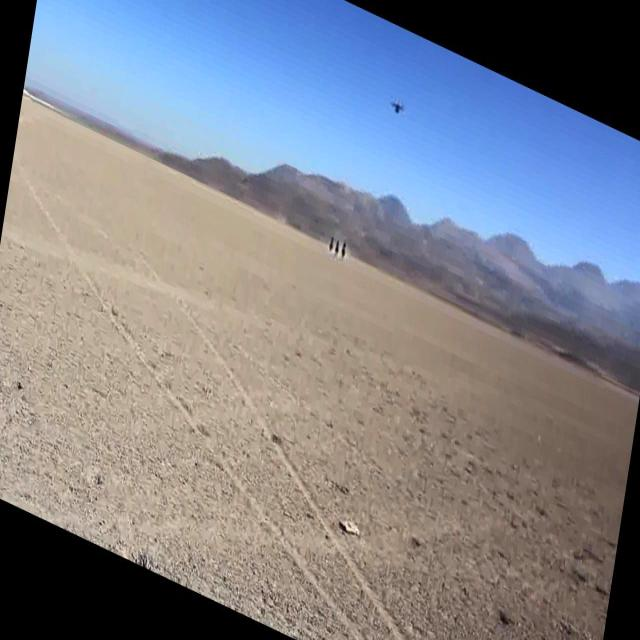drone: (387, 91, 407, 122)
